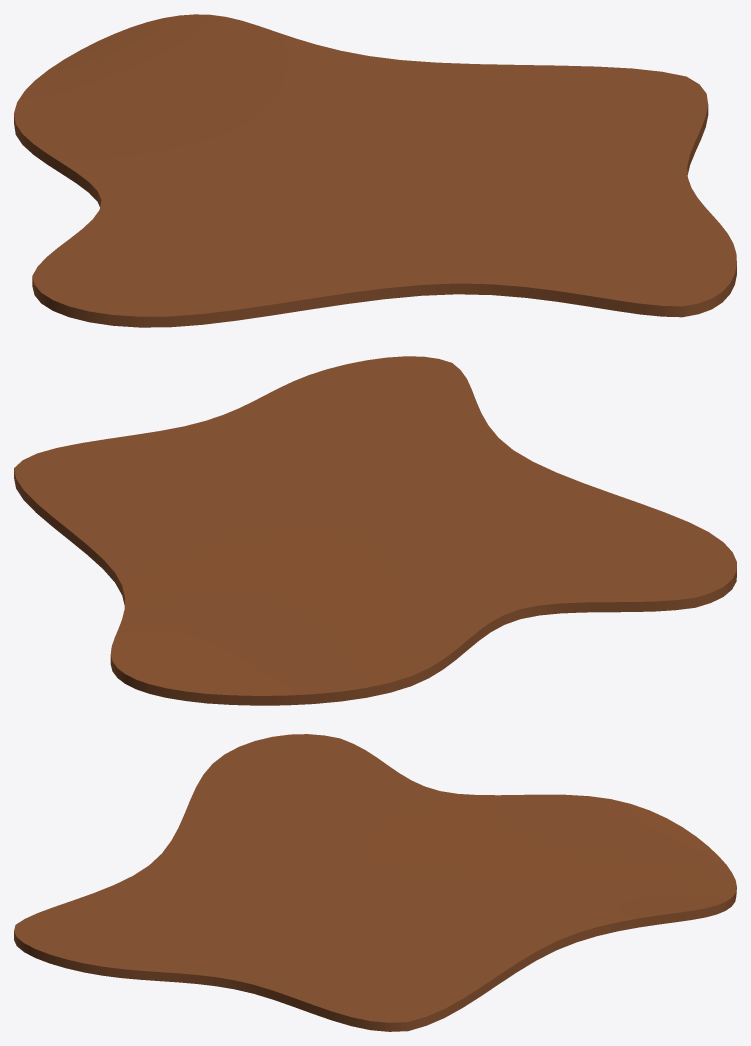
Rendered from charcocafe.fbx.
3 views of the same model, one above another, from view 1: azimuth 30°, elevation 25°; view 2: azimuth 150°, elevation 25°; view 3: azimuth 270°, elevation 25° (orthographic). The views are drawn at different scales.
Parts seen in each view (by area): view 1: Plane; view 2: Plane; view 3: Plane.
Part boxes in pixels (<box>): Plane: <box>14,14,736,327</box>; Plane: <box>14,356,736,705</box>; Plane: <box>14,734,736,1031</box>.
Bounding box in the file's own units: 205 × 4.91 × 217.
